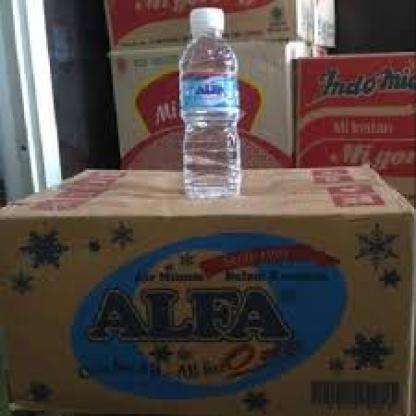Glass Bottle: (174, 4, 244, 205)
